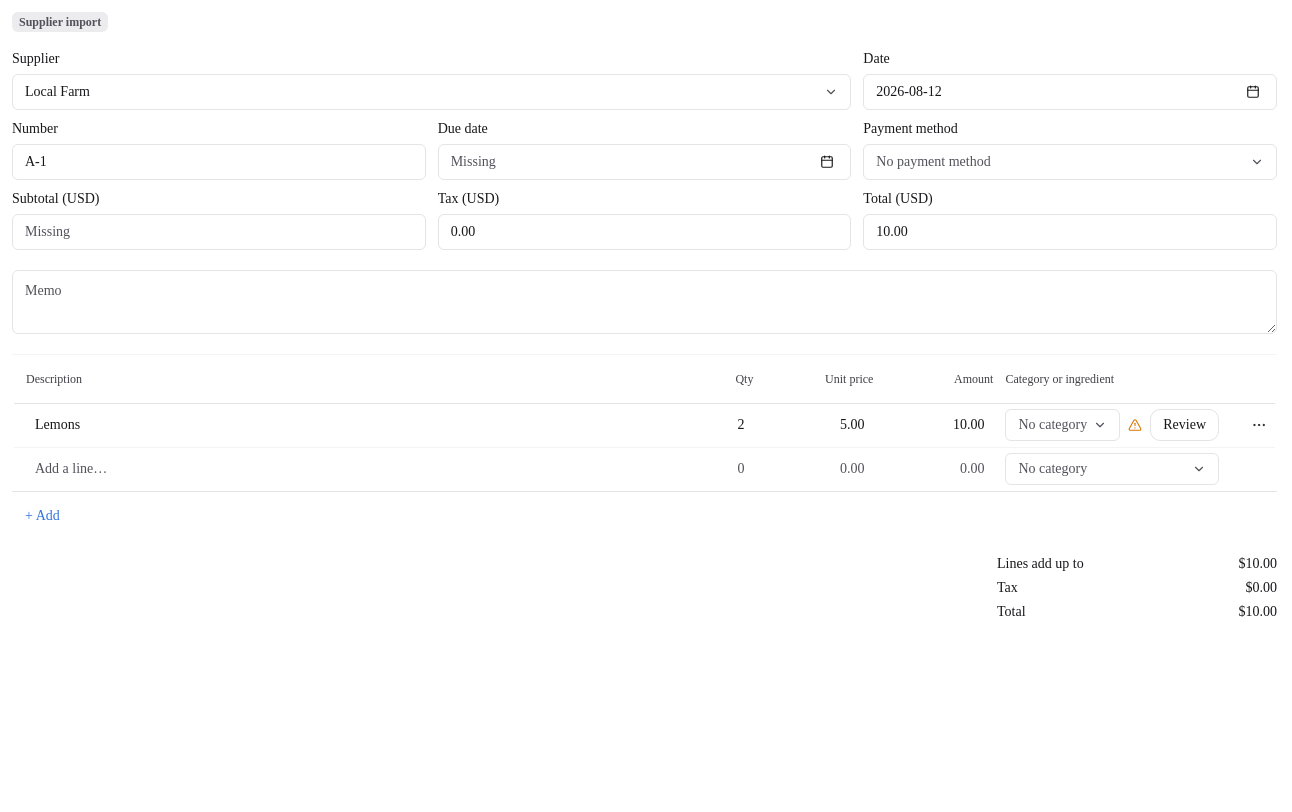
Test case: the invoice editor › clears the review badge from the refreshed item
Click the button "Review": (1185, 425) [1150,409,1219,441]
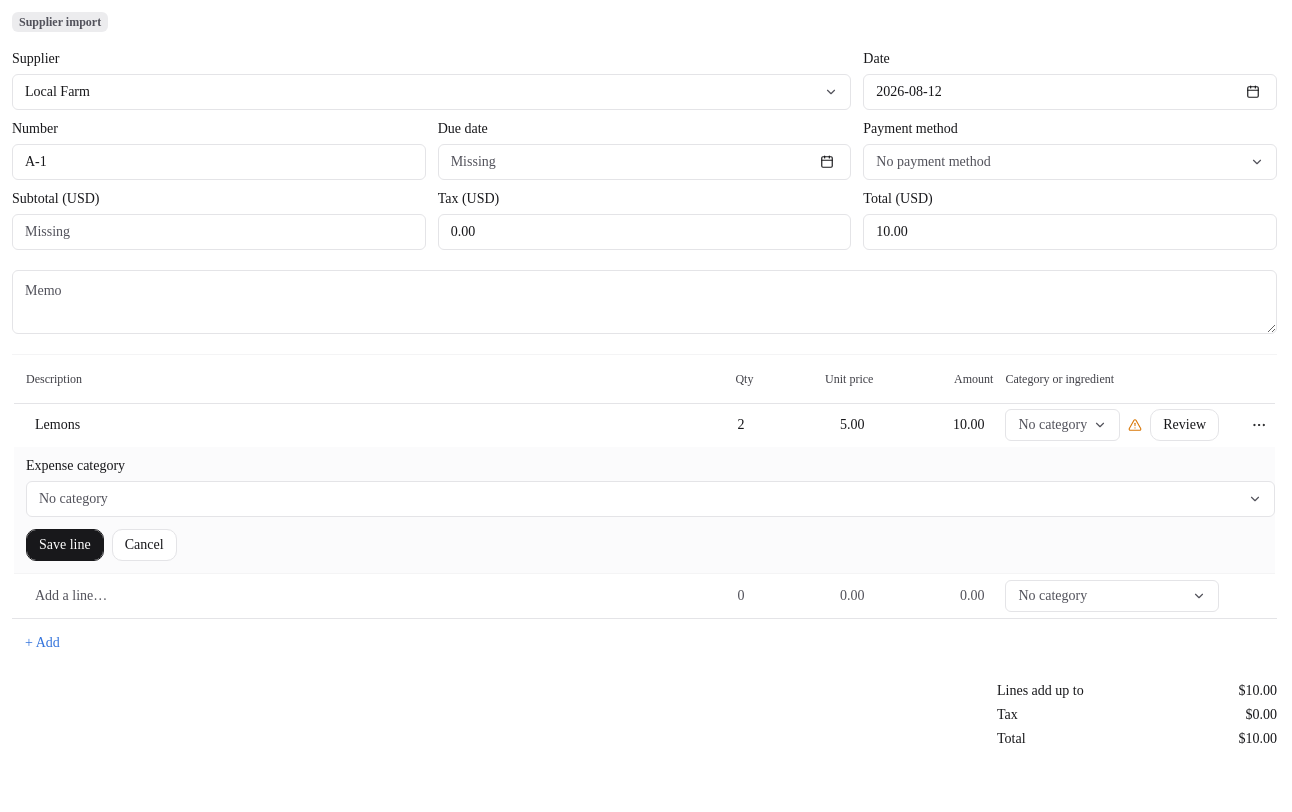
Press the mouse on the dropdown named "Expense category": (73, 498) [26,481,1275,517]
Click the dropdown named "Expense category": (73, 498) [26,481,1275,517]
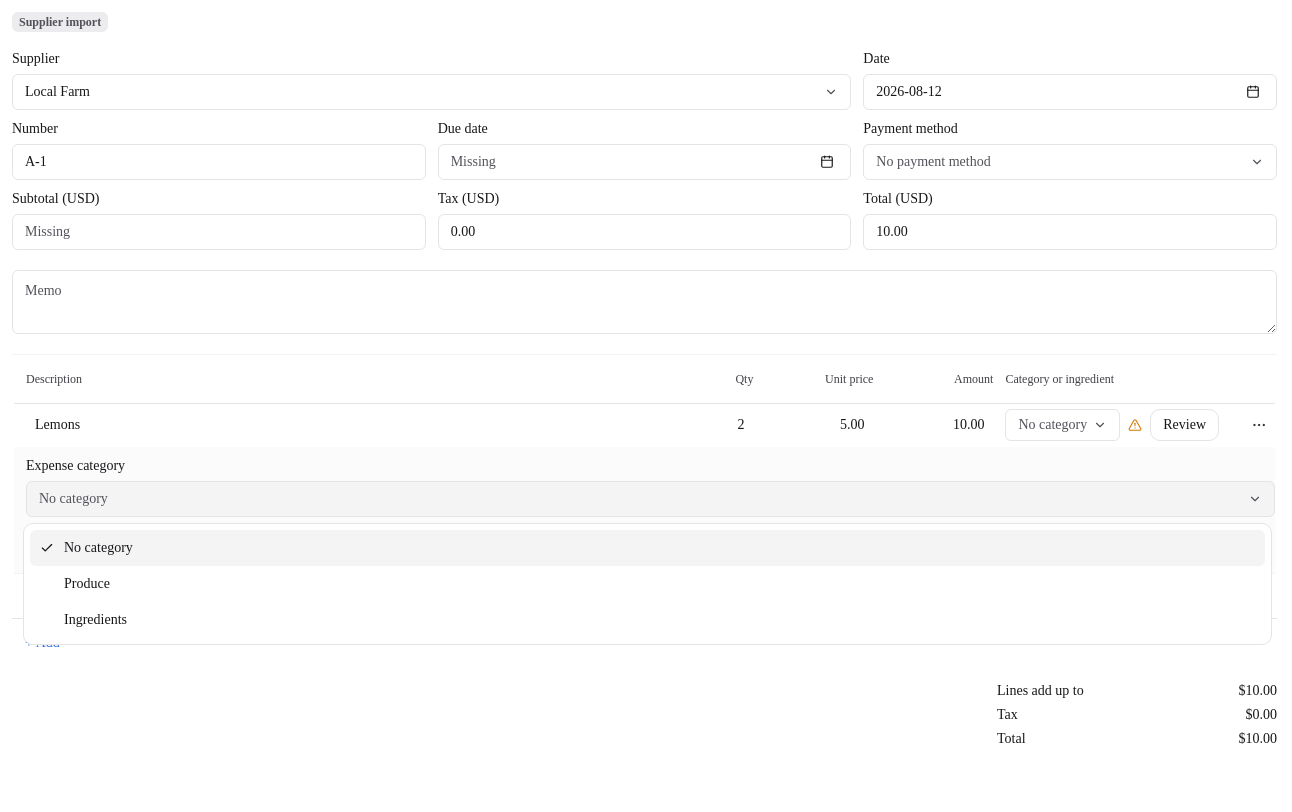
Press the mouse on the option "Produce": (87, 584) [64,576,110,591]
Click the option "Produce": (87, 584) [64,576,110,591]
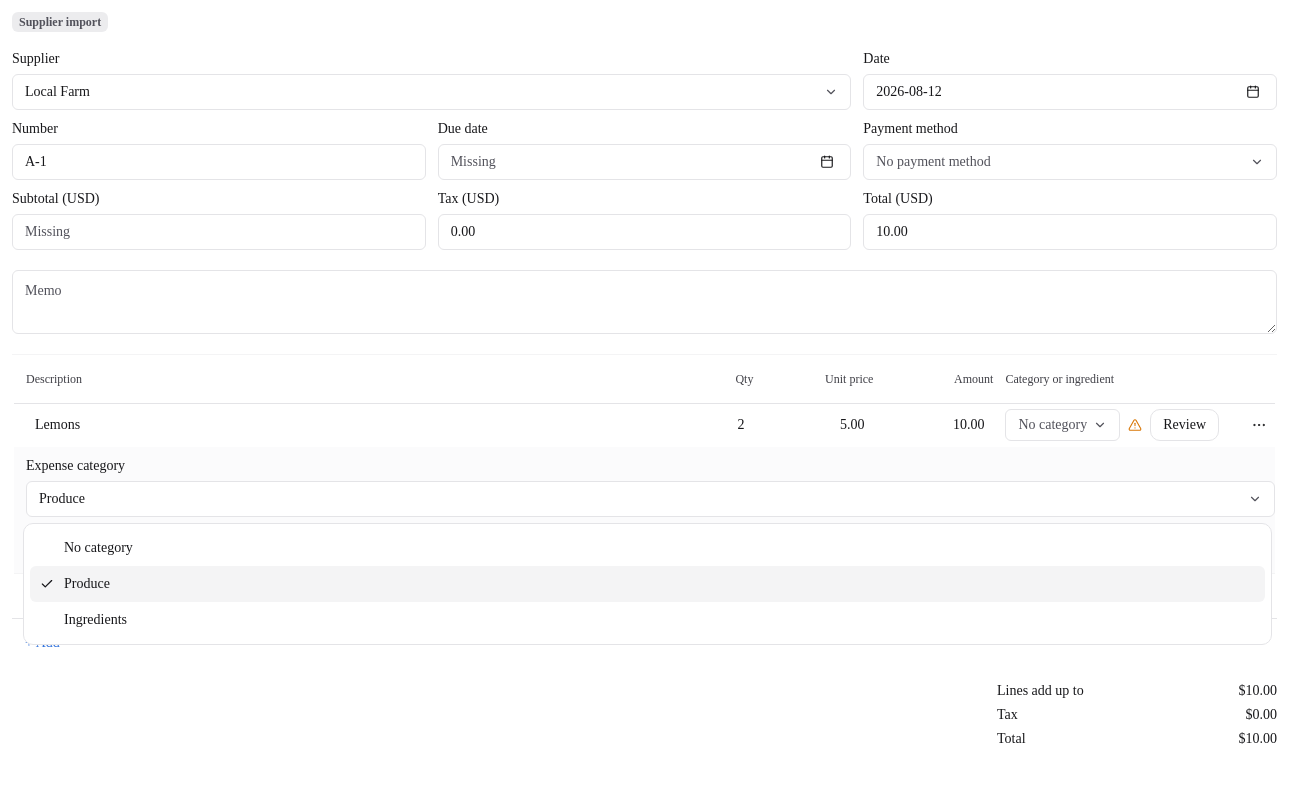
Click the button "Save line": (65, 545) [26,529,104,561]
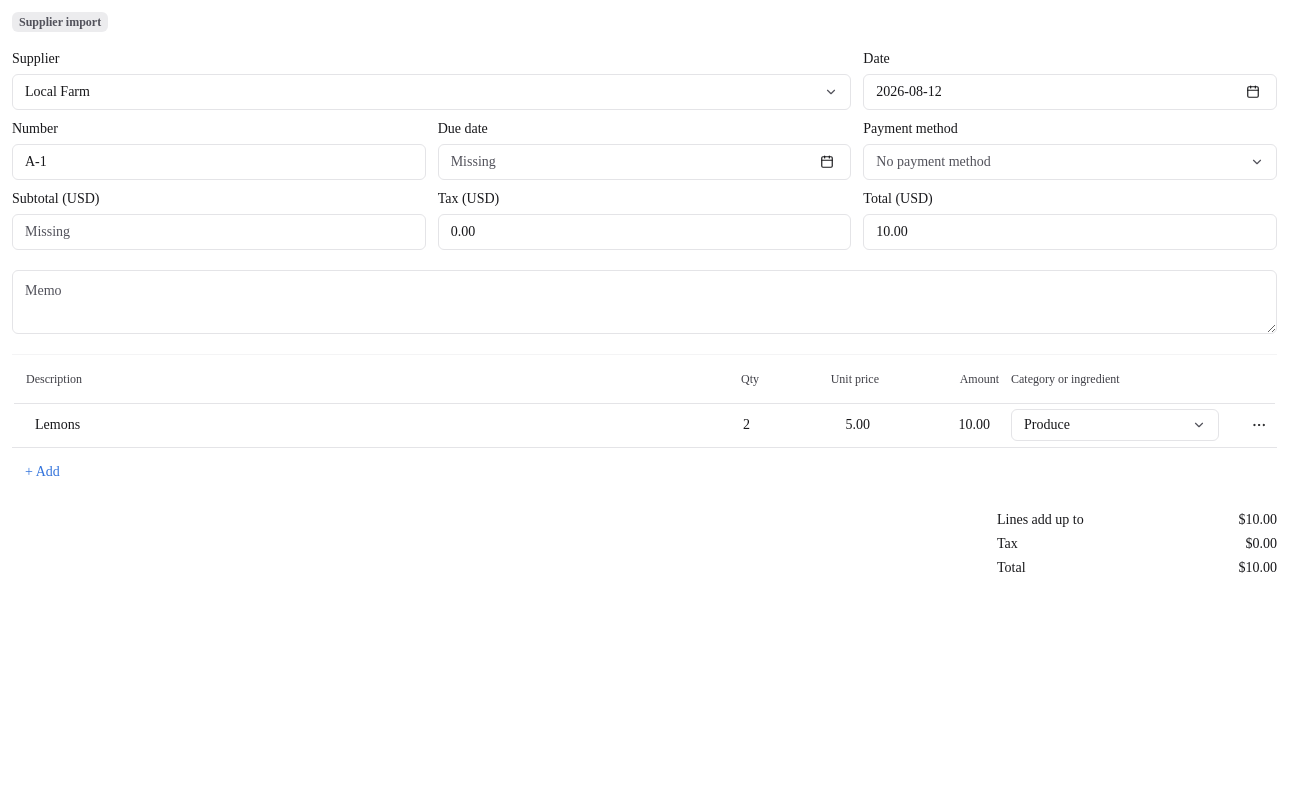
Expected: the button "Review" is gone
